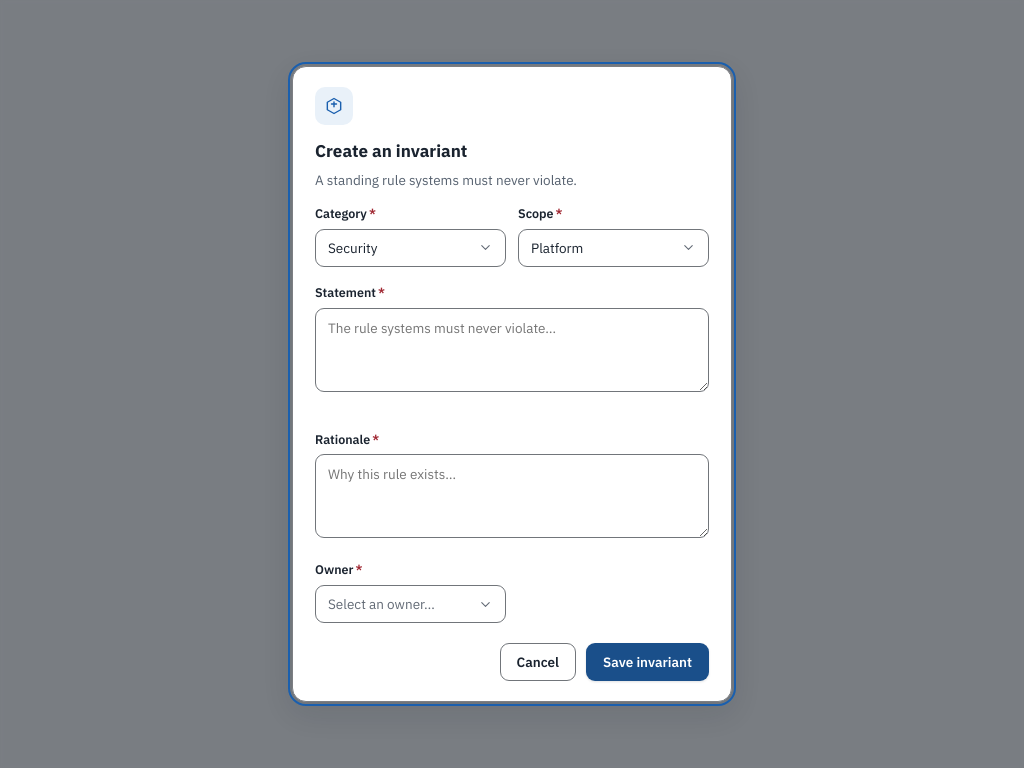
Scenario: CreateInvariantDialog (P11d) › surfaces a server error and does not navigate
This screenshot has width=1024, height=768.
Step 1. Type "X" into the text box labelled "Statement*" → (512, 350), box [315, 308, 709, 392]
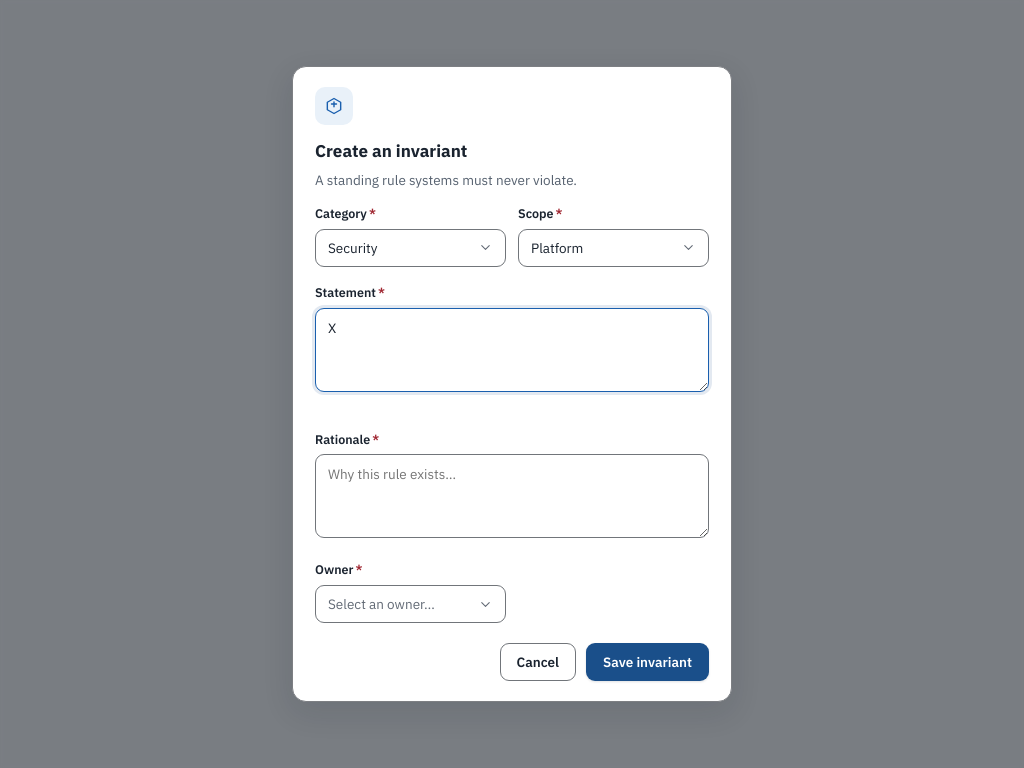
Step 2. Type "Y" into the text box labelled "Rationale*" → (512, 496), box [315, 454, 709, 538]
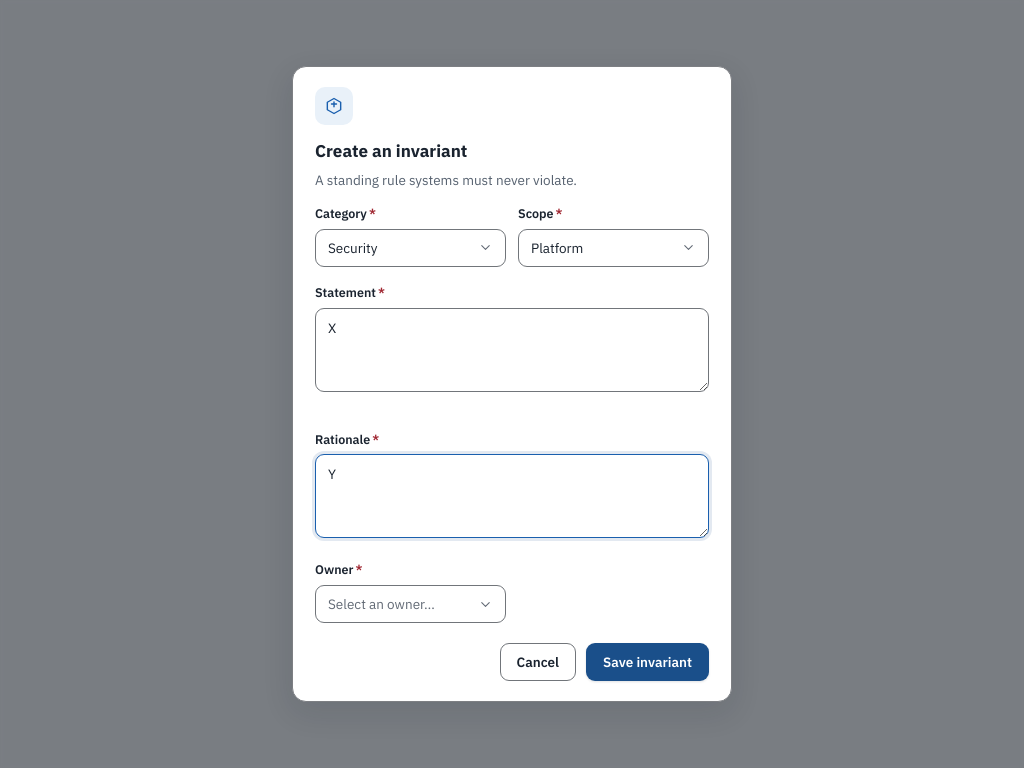
Step 3. Click the button "Select an owner…" → (410, 604), box [315, 585, 506, 623]
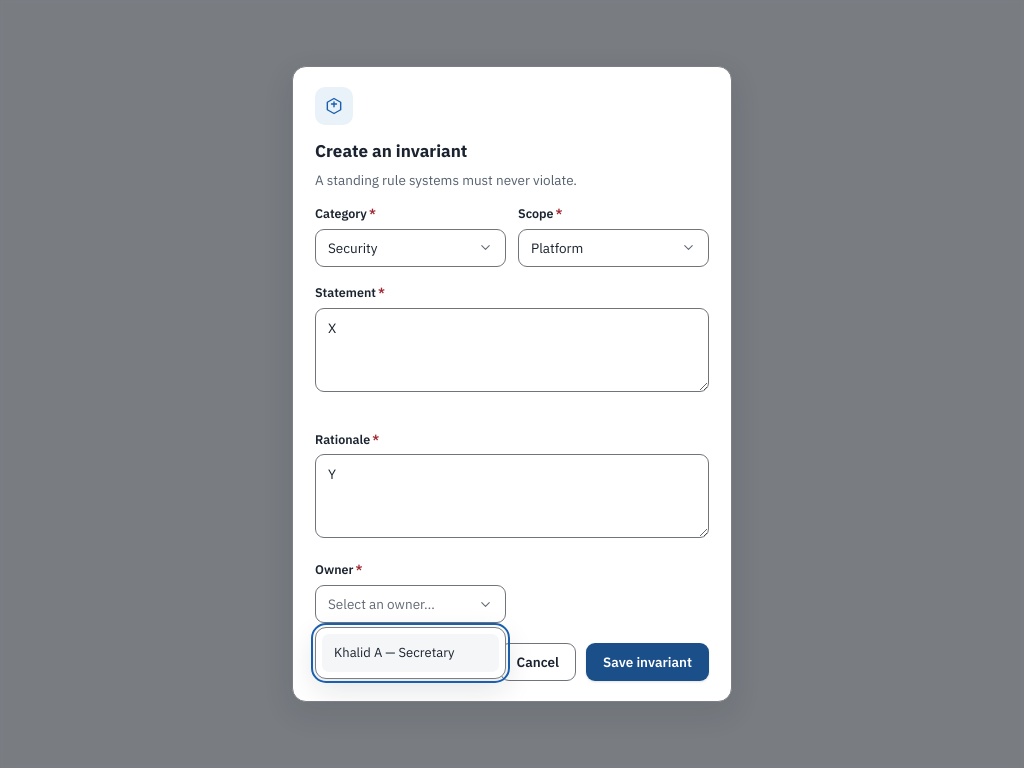
Step 4. Click the option "Khalid A — Secretary" → (410, 653), box [322, 634, 499, 672]
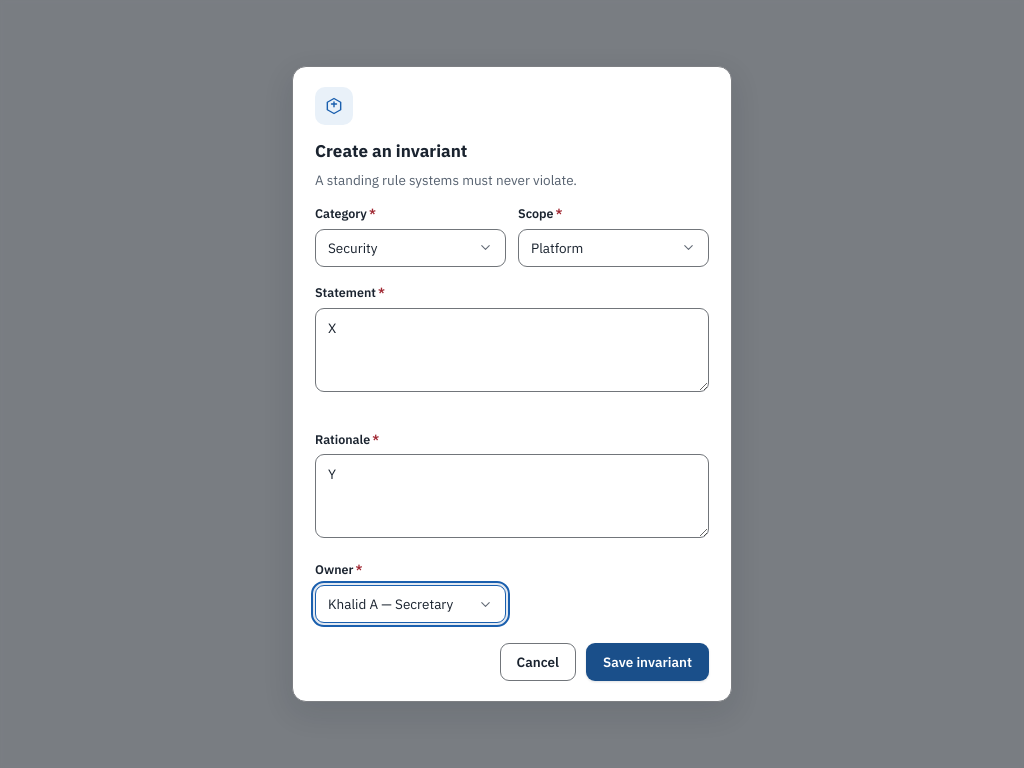
Step 5. Click the button "Save invariant" → (648, 662), box [586, 643, 709, 681]
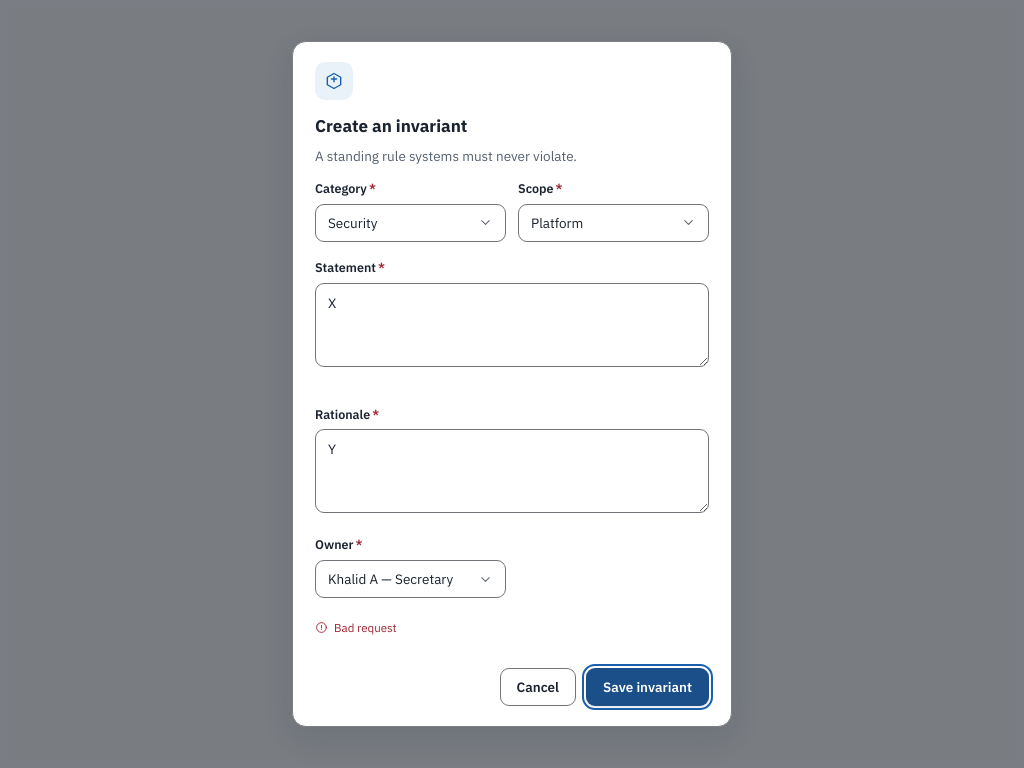
Check: the message reads "Bad request", box [334, 620, 397, 635]
